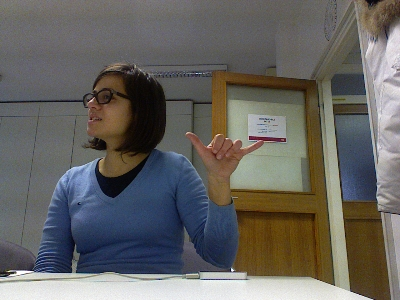六六六: (182, 129, 265, 177)
